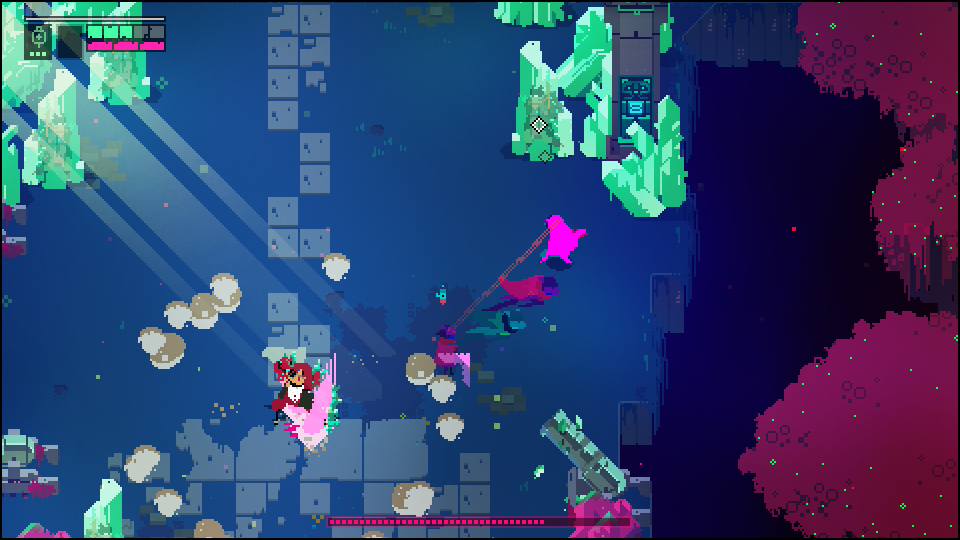hanged_man: (262, 350, 344, 443)
player: (537, 215, 588, 265)
